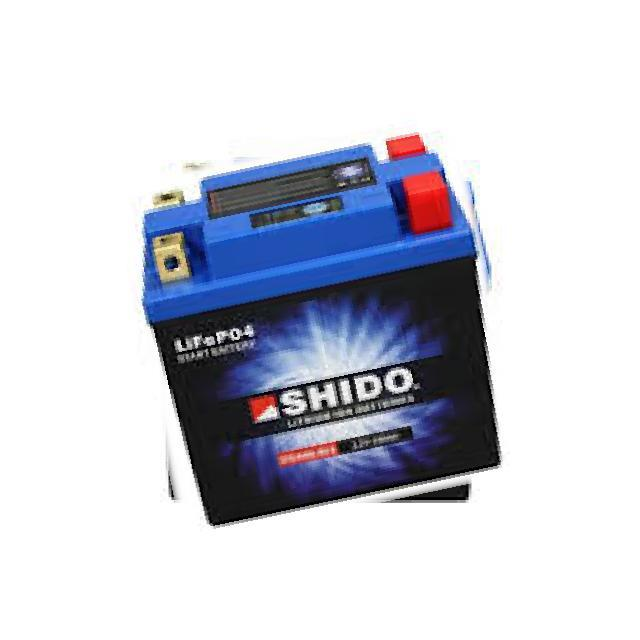Battery: (97, 121, 518, 562)
